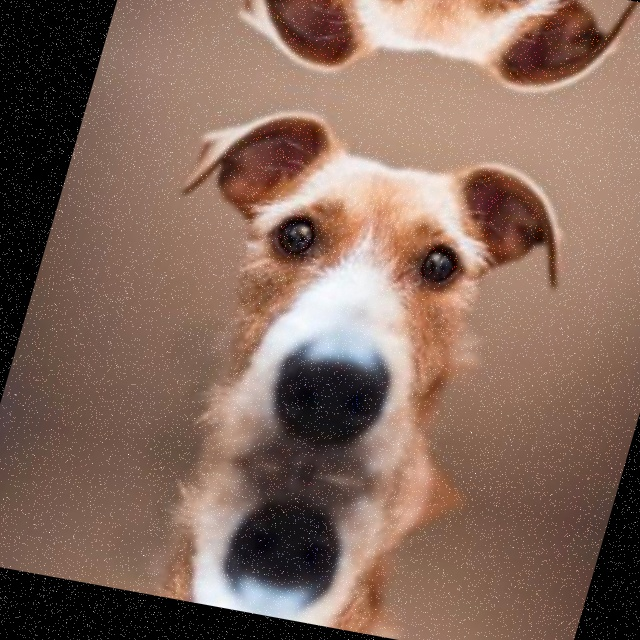dog: (105, 89, 604, 510), (65, 437, 503, 640), (216, 0, 640, 130)
